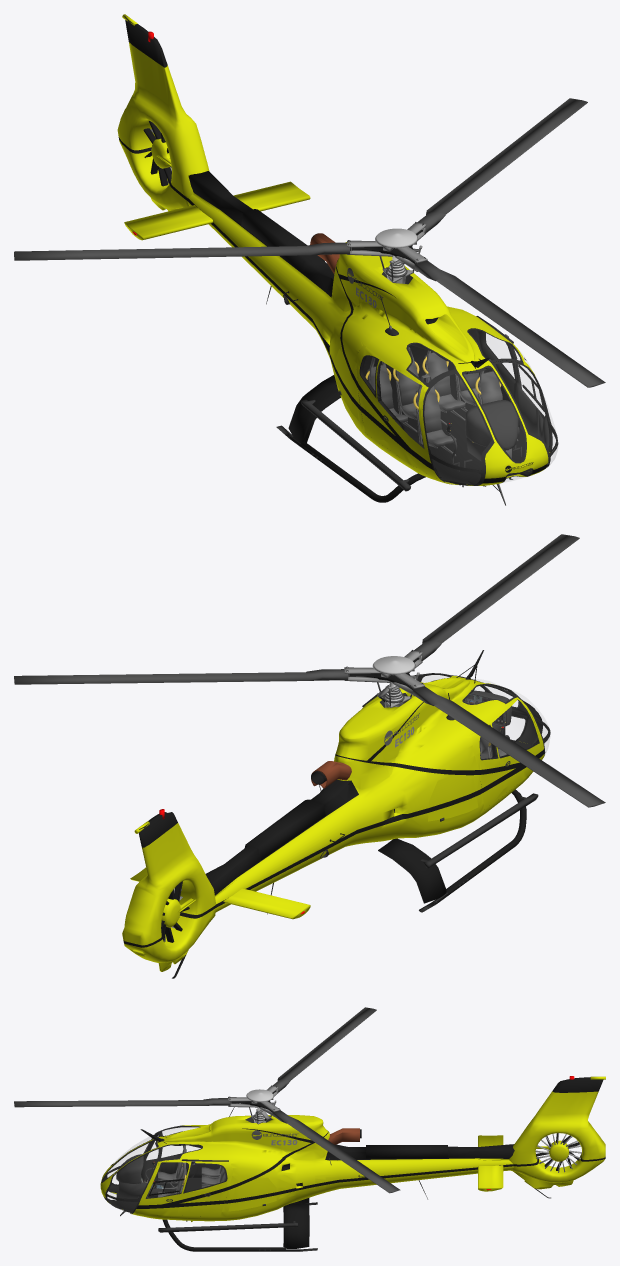
The model's file is helicopter.glb.
3 renders of one model, top to bottom at view 1: azimuth 30°, elevation 25°; view 2: azimuth 150°, elevation 25°; view 3: azimuth 270°, elevation 25°, orthographic. The views are drawn at different scales.
Visible parts, largest first — view 1: G-__575823, [static_ro, G-__576228, G-__576237, G-__576138, G-__576111, G-__576264, G-__575850, G-__575904, G-__575787, Gruppe#40.001, G-__575841 (+8 smaller); view 2: G-__575823, [static_ro, G-__576228, G-__575904, G-__576237, G-__575886, G-__575841, G-__575787, G-__575850, G-__576138, G-__576264, G-__575796; view 3: G-__575823, G-__576228, [static_ro, G-__576237, G-__575904, G-__575859, G-__575877, G-__576264, G-__575868, G-__575787, G-__575895, G-__576138 (+6 smaller).
Part boxes in pixels (x1=…): G-__575823: x1=187, y1=171, x2=550, y2=485; [static_ro: x1=14, y1=98, x2=605, y2=387; G-__576228: x1=117, y1=16, x2=310, y2=240; G-__576237: x1=276, y1=295, x2=513, y2=502; G-__576138: x1=358, y1=328, x2=557, y2=485; G-__576111: x1=401, y1=402, x2=532, y2=484; G-__576264: x1=465, y1=400, x2=518, y2=461; G-__575850: x1=375, y1=358, x2=437, y2=478; G-__575904: x1=331, y1=242, x2=392, y2=311; G-__575787: x1=132, y1=31, x2=544, y2=411; Gruppe#40.001: x1=413, y1=374, x2=456, y2=456; G-__575841: x1=356, y1=345, x2=386, y2=447; G-__575823: x1=205, y1=675, x2=544, y2=912; [static_ro: x1=14, y1=534, x2=605, y2=807; G-__576228: x1=122, y1=812, x2=310, y2=978; G-__575904: x1=334, y1=706, x2=402, y2=790; G-__576237: x1=320, y1=692, x2=538, y2=912; G-__575886: x1=428, y1=768, x2=478, y2=821; G-__575841: x1=471, y1=722, x2=503, y2=809; G-__575787: x1=159, y1=771, x2=326, y2=942; G-__575850: x1=489, y1=698, x2=543, y2=794; G-__576138: x1=414, y1=673, x2=549, y2=784; G-__576264: x1=464, y1=690, x2=511, y2=735; G-__575796: x1=311, y1=761, x2=351, y2=788; G-__575823: x1=100, y1=1115, x2=514, y2=1221; G-__576228: x1=478, y1=1077, x2=605, y2=1198; [static_ro: x1=14, y1=1007, x2=400, y2=1193; G-__576237: x1=158, y1=1159, x2=317, y2=1251; G-__575904: x1=276, y1=1115, x2=329, y2=1159; G-__575859: x1=176, y1=1161, x2=233, y2=1216; G-__575877: x1=228, y1=1177, x2=276, y2=1211; G-__576264: x1=116, y1=1154, x2=163, y2=1197; G-__575868: x1=136, y1=1161, x2=191, y2=1215; G-__575787: x1=149, y1=1076, x2=579, y2=1199; G-__575895: x1=280, y1=1171, x2=325, y2=1198; G-__576138: x1=101, y1=1125, x2=220, y2=1216.
Bounding box in the file's own units: 4.17 × 1.58 × 5.61.
Materials: 27 (2 with a texture image).
